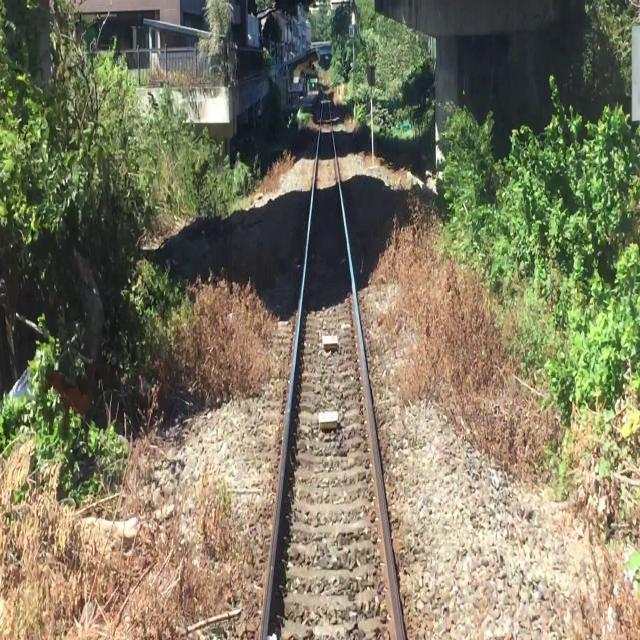rail: (234, 71, 449, 640)
